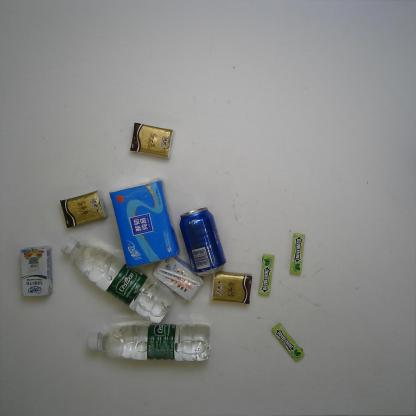Drink: (63, 233, 176, 324), (82, 322, 214, 364), (178, 206, 230, 276)
Gum: (270, 320, 304, 363), (257, 251, 276, 298), (288, 232, 305, 278)
Milk: (155, 254, 204, 302), (16, 246, 55, 302)
Tissue: (109, 178, 184, 272), (57, 187, 108, 230), (129, 120, 175, 159), (207, 273, 252, 307)
